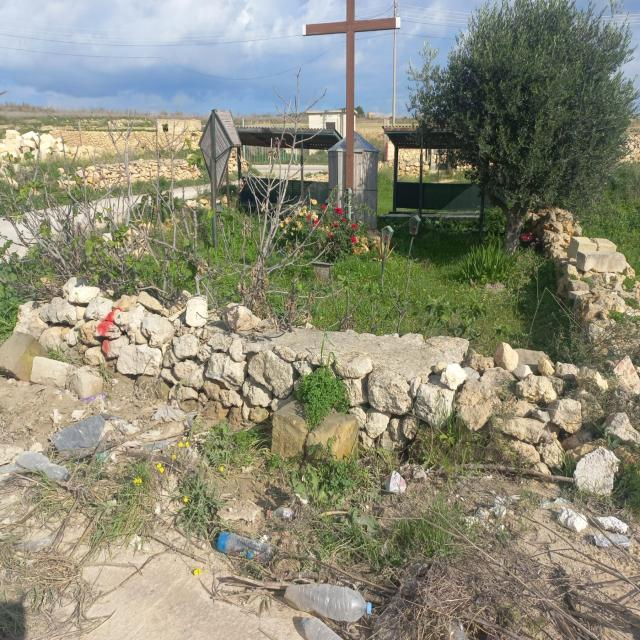Bottle: (283, 583, 372, 621), (216, 532, 275, 564), (14, 452, 70, 481), (300, 616, 344, 640), (267, 507, 294, 520)
Broken glass: (0, 462, 27, 485)
Can: (592, 534, 631, 549), (386, 470, 407, 495)
Other litter: (51, 406, 198, 462), (538, 497, 571, 510), (83, 392, 109, 403)
Other plastic: (448, 619, 466, 640)
